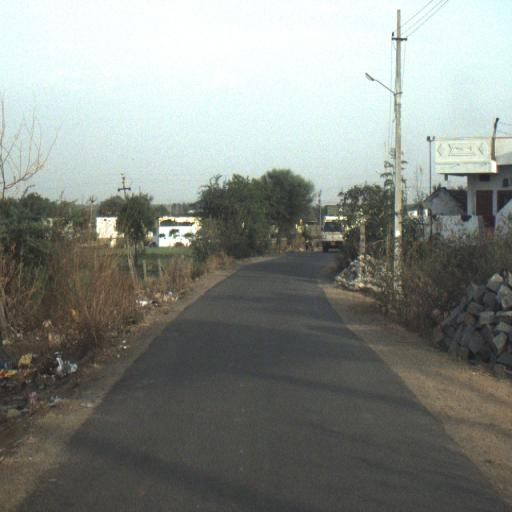street_light_0: (365, 71, 402, 114)
